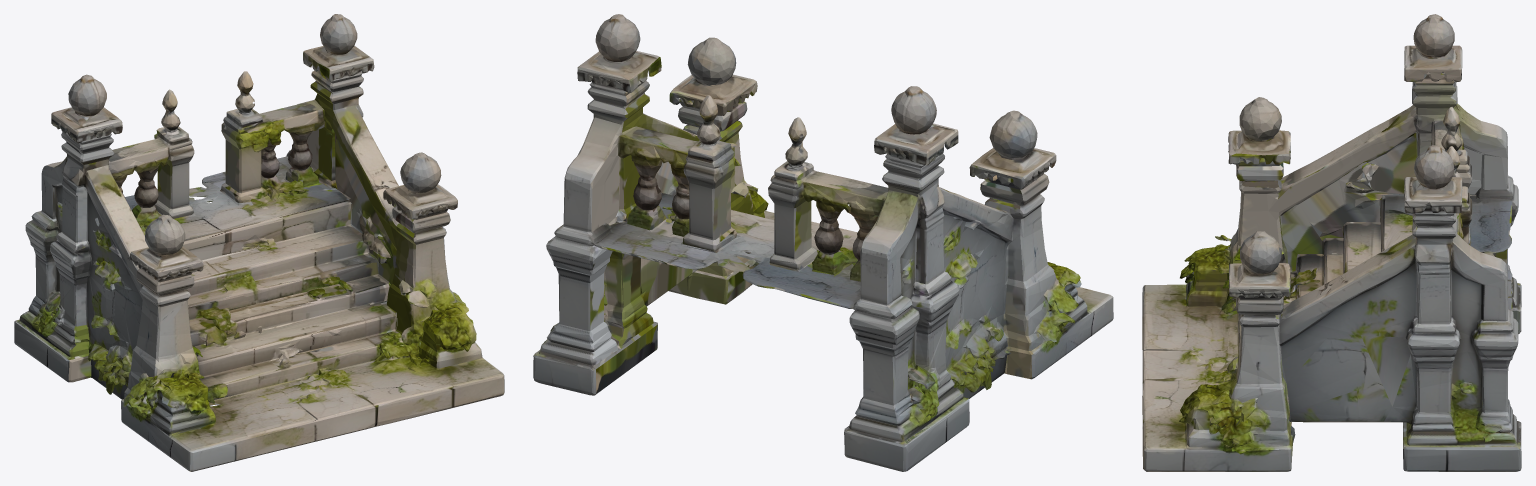
File: stone-balustrade-railing-optimized.glb
3 renders of one model, left to right at view 1: azimuth 30°, elevation 25°; view 2: azimuth 150°, elevation 25°; view 3: azimuth 270°, elevation 25°, orthographic. The views are drawn at different scales.
Parts seen in each view (by area): view 1: 87895124-9638-4080-8966-32bd86f0a73b_texturing.obj; view 2: 87895124-9638-4080-8966-32bd86f0a73b_texturing.obj; view 3: 87895124-9638-4080-8966-32bd86f0a73b_texturing.obj.
Part boxes in pixels (bbox=[...]): 87895124-9638-4080-8966-32bd86f0a73b_texturing.obj: bbox=[14, 14, 504, 471]; 87895124-9638-4080-8966-32bd86f0a73b_texturing.obj: bbox=[533, 14, 1113, 471]; 87895124-9638-4080-8966-32bd86f0a73b_texturing.obj: bbox=[1142, 14, 1521, 471].
Bounding box in the file's own units: 2 × 1.64 × 1.82.
Materials: 1 (1 with a texture image).
